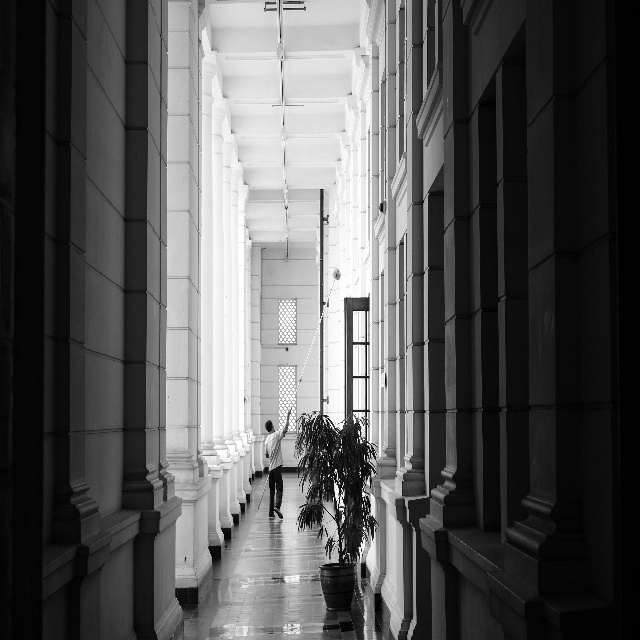Sin_guantes: (287, 408, 291, 417)
